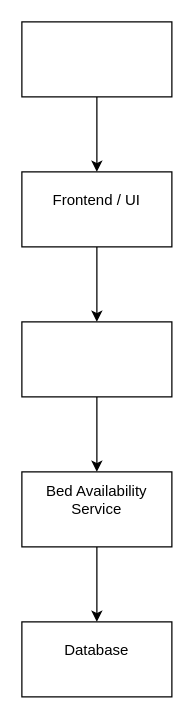
Image size: 194x719. Some labels were removed from this diagram. Here are the shapes that lost their labels. From the top down, the centre of each, then its label:
the point at 96,59: User / Staff
the point at 96,359: │ Backend API │
